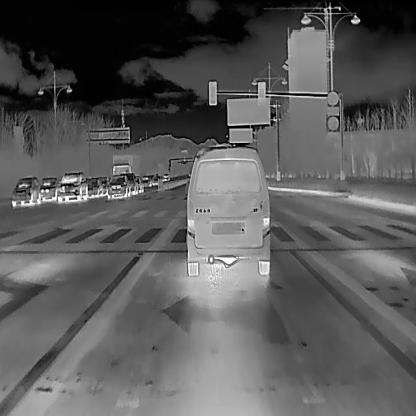car: (185, 145, 271, 274), (54, 168, 86, 202), (10, 173, 41, 206), (105, 173, 128, 197), (40, 176, 56, 200), (84, 178, 102, 197), (126, 172, 138, 193), (136, 176, 145, 192), (163, 172, 170, 180)
truck: (110, 154, 136, 174)
